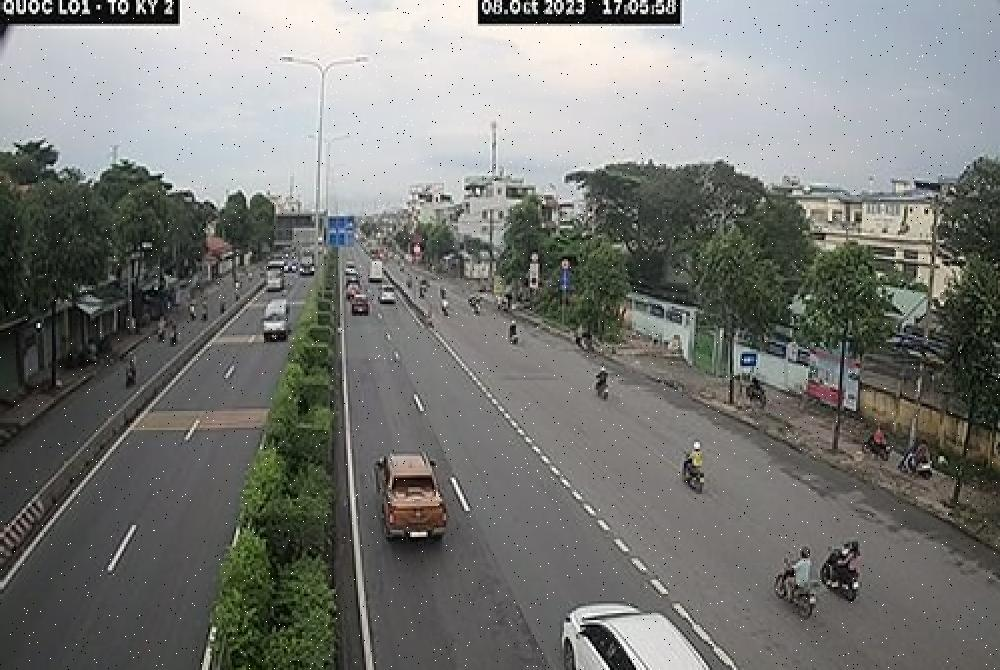car: (562, 598, 716, 670), (368, 448, 450, 550)
